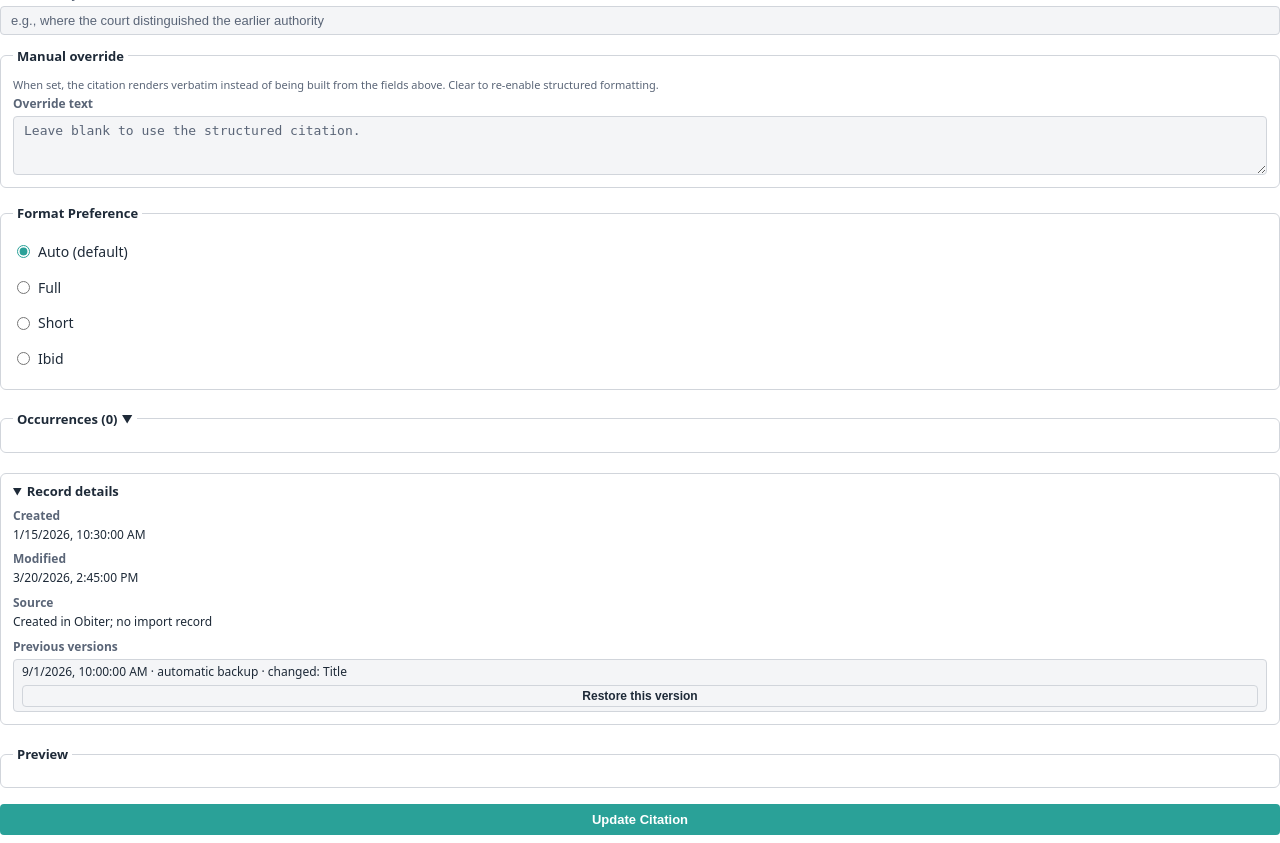
ENP-005: record details in the Edit view › reports a refused write instead of restoring
(page scrolled)
What coordinates should you click on to do the following:
click the button "Restore this version"
I would click on:
 (640, 696)
Its box is [22,685,1258,707].
(page scrolled)
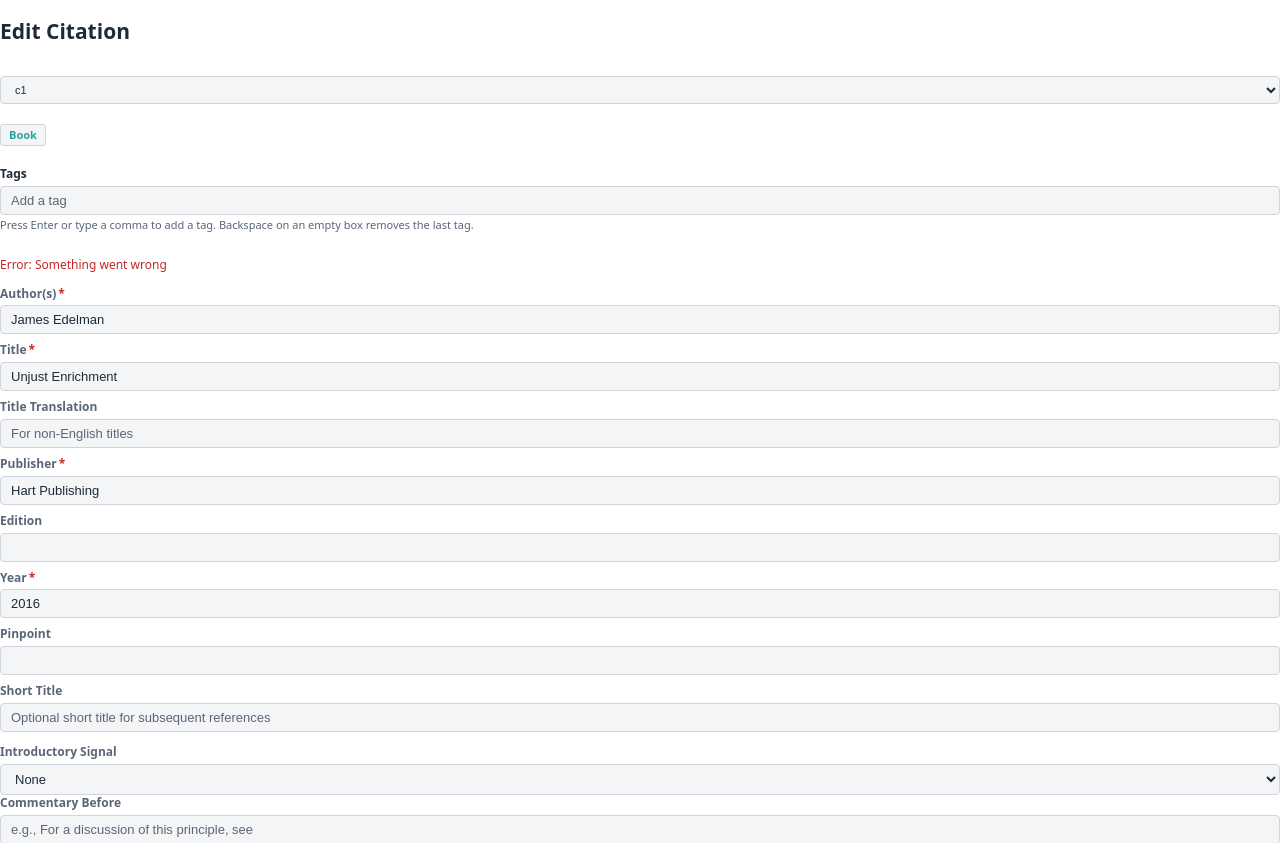
Expected: the text "Error: Something went wrong" is shown, [0,256,167,273]
Expected: the field labelled "Title*" holds "Unjust Enrichment", [0,362,1279,391]
